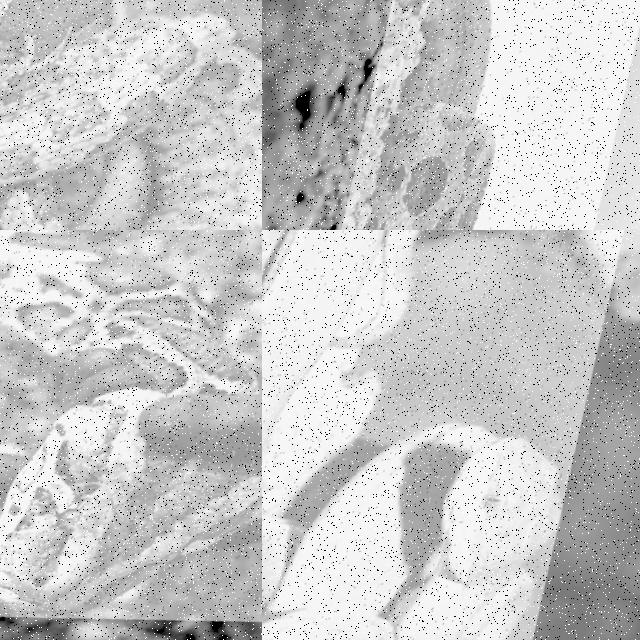Daboia siamensis: (362, 0, 495, 229)
Ovophis monticola: (0, 0, 261, 229)
Python bivittatus: (0, 230, 261, 617)
Trimeresurus: (262, 423, 560, 639)
